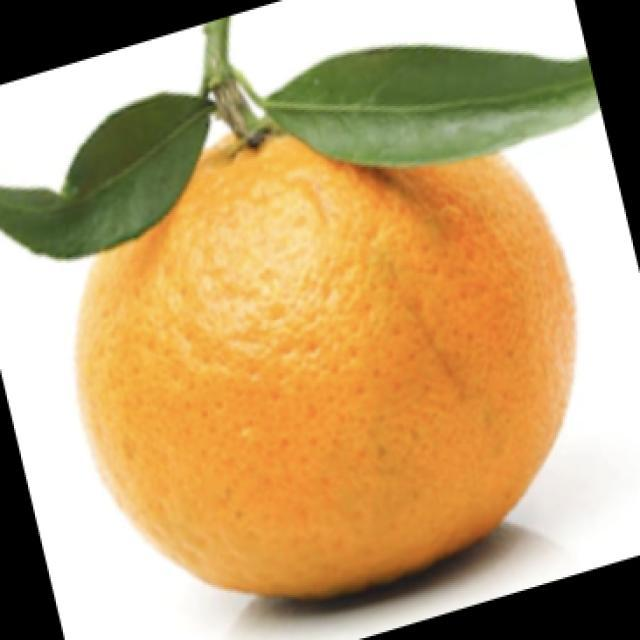matang: (78, 136, 574, 596)
